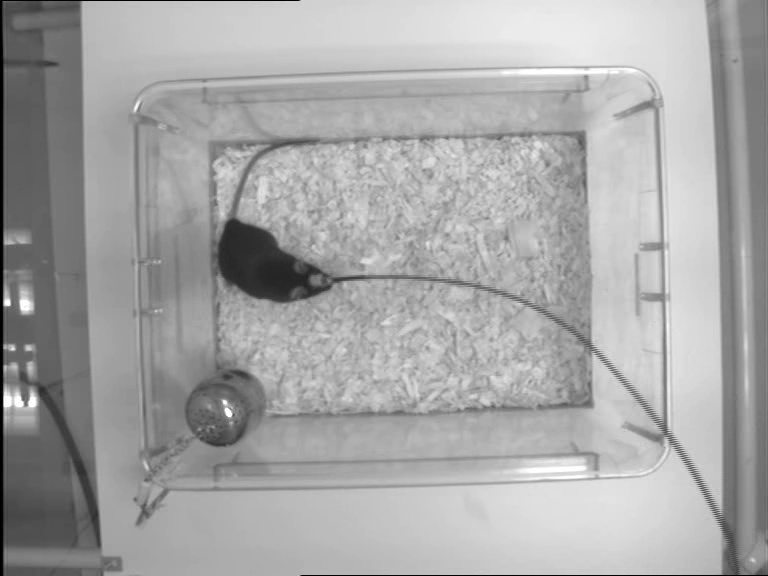mice: (216, 134, 338, 304)
